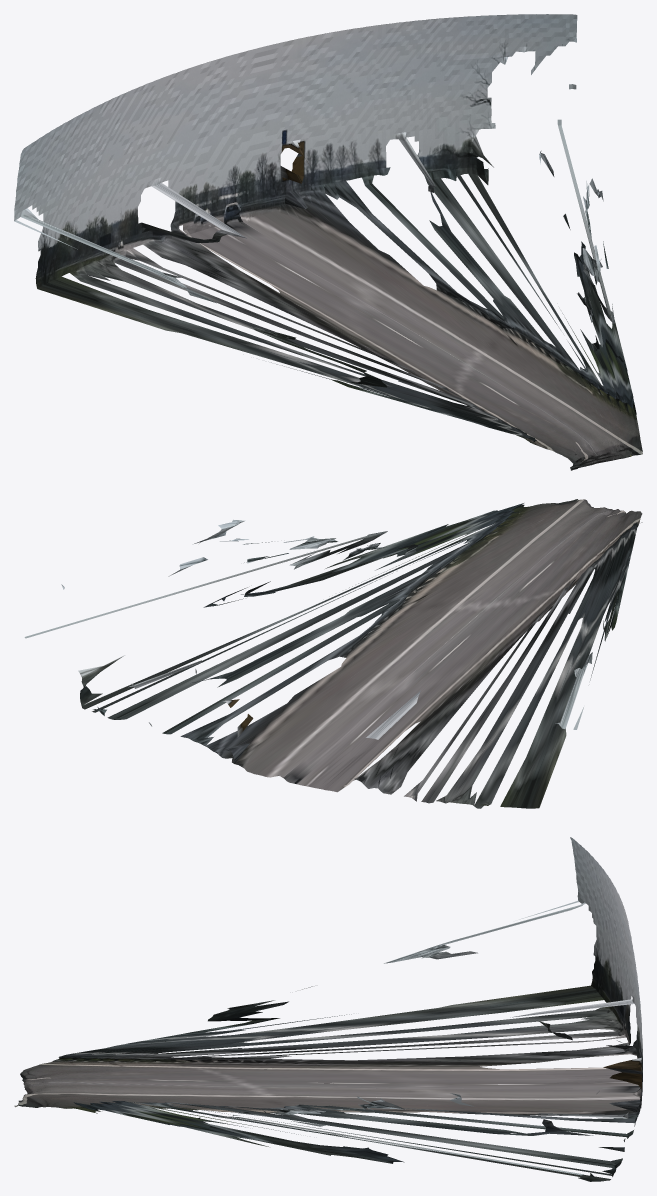
3 views of the same model, one above another, from view 1: azimuth 30°, elevation 25°; view 2: azimuth 150°, elevation 25°; view 3: azimuth 270°, elevation 25° (orthographic). The views are drawn at different scales.
Parts seen in each view (by area): view 1: defaultobject; view 2: defaultobject; view 3: defaultobject.
Part boxes in pixels (box(x1,y1,x2,y2)): defaultobject: box(14, 14, 642, 470); defaultobject: box(24, 499, 642, 808); defaultobject: box(14, 837, 642, 1181).
Bounding box in the file's own units: 41.05 × 12.13 × 44.58.
1 material, 1 textured.
